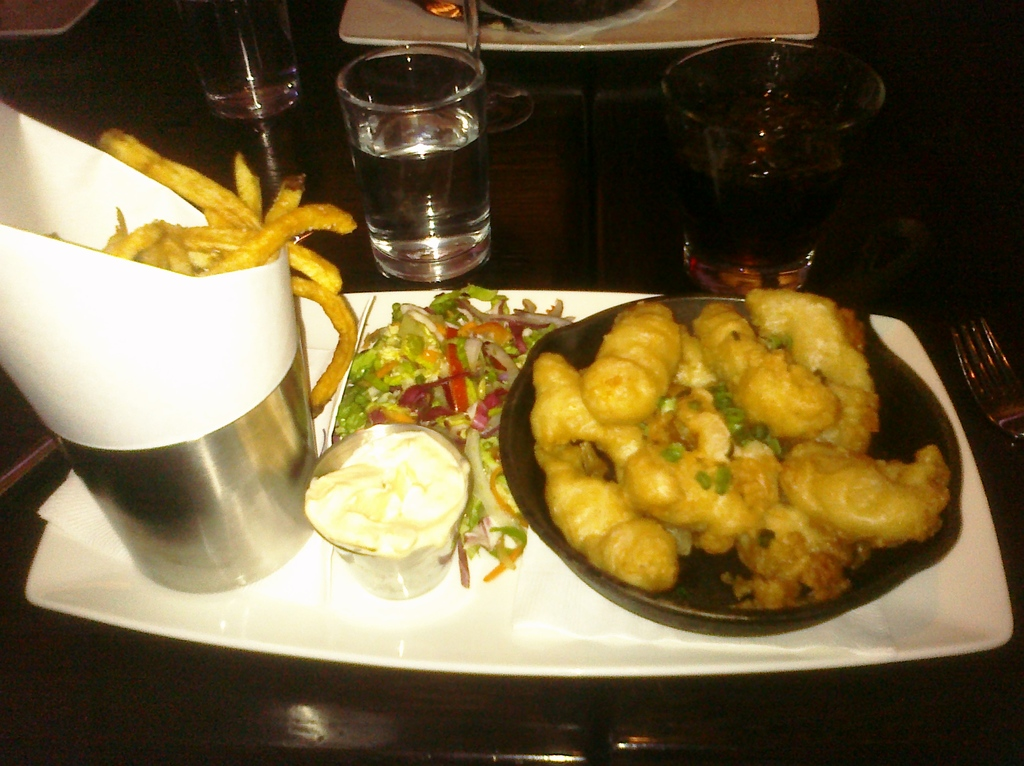French fries: (71, 154, 339, 281)
